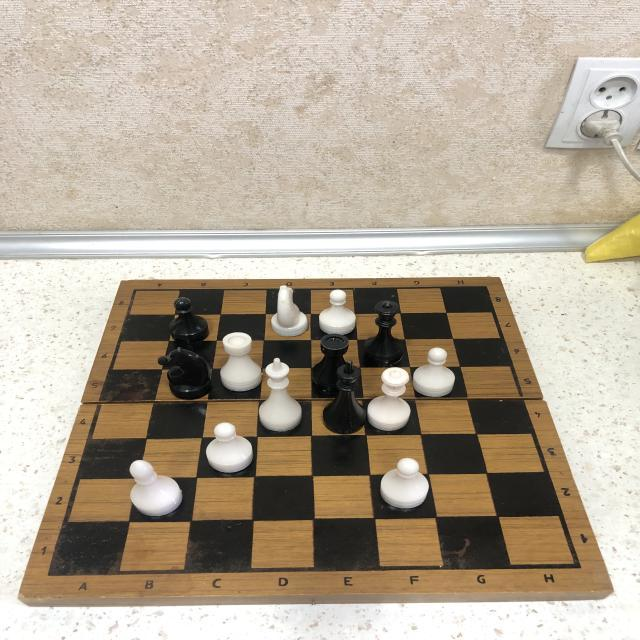chess-table-corners: (555, 553, 591, 577), (36, 564, 63, 584), (125, 284, 151, 300), (476, 280, 498, 294)
